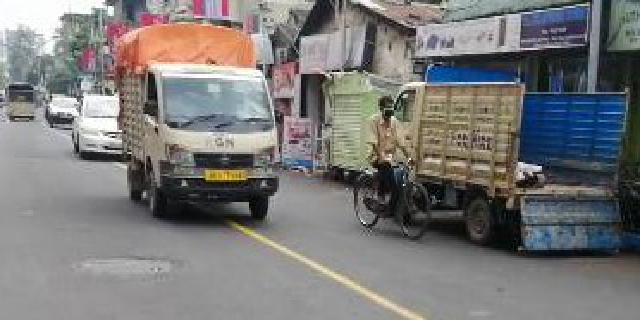Car: (75, 79, 121, 164)
Cycle: (350, 90, 436, 241)
Minitruck: (395, 76, 632, 271), (111, 16, 290, 223)
